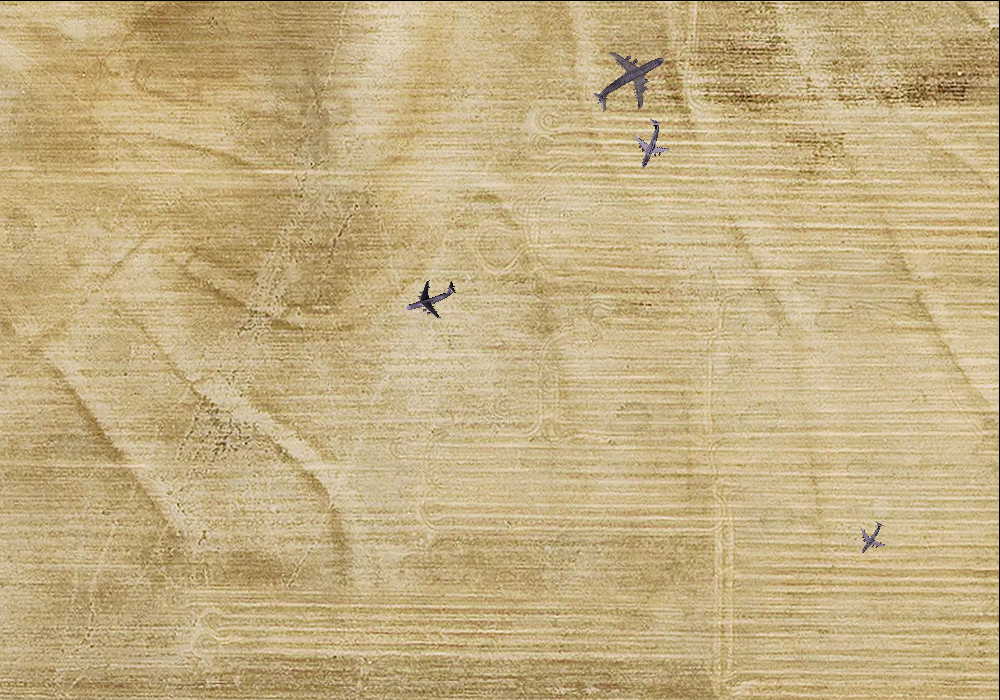plane: (577, 28, 683, 131), (397, 267, 463, 329), (619, 112, 680, 175), (847, 513, 895, 562)
